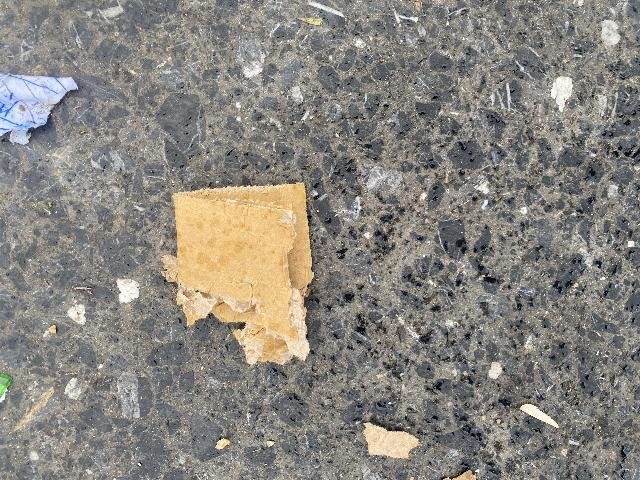Kagit: (158, 179, 313, 369), (0, 73, 83, 145)
